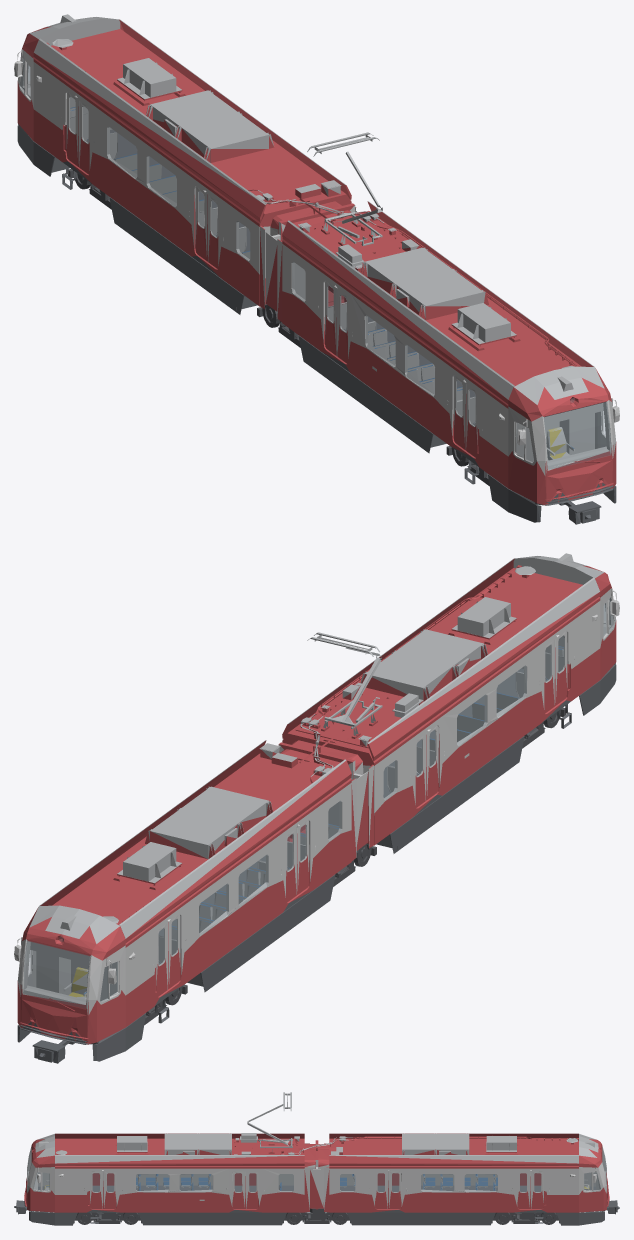
Rendered from train.glb.
The picture shows the model from 3 angles, top to bottom: view 1: azimuth 30°, elevation 25°; view 2: azimuth 150°, elevation 25°; view 3: azimuth 270°, elevation 25°; orthographic projection. The views are drawn at different scales.
Parts seen in each view (by area): view 1: body, door-R-a, door-R-b; view 2: body, door-R-b, door-R-a; view 3: body, door-L-a, door-L-b, door-R-a, door-R-b.
Boxes of the visible parts, box(x1,y1,x2,y2) form: body: box(14, 14, 619, 524); door-R-a: box(66, 92, 465, 450); door-R-b: box(79, 100, 477, 457); body: box(14, 553, 619, 1063); door-R-b: box(168, 631, 567, 989); door-R-a: box(156, 639, 554, 996); body: box(14, 1092, 619, 1225); door-L-a: box(90, 1171, 530, 1208); door-L-b: box(103, 1171, 543, 1208); door-R-a: box(107, 1173, 541, 1185); door-R-b: box(92, 1173, 526, 1185).
Size of the model in its own units: 2.92 by 5.9 by 27.51.
